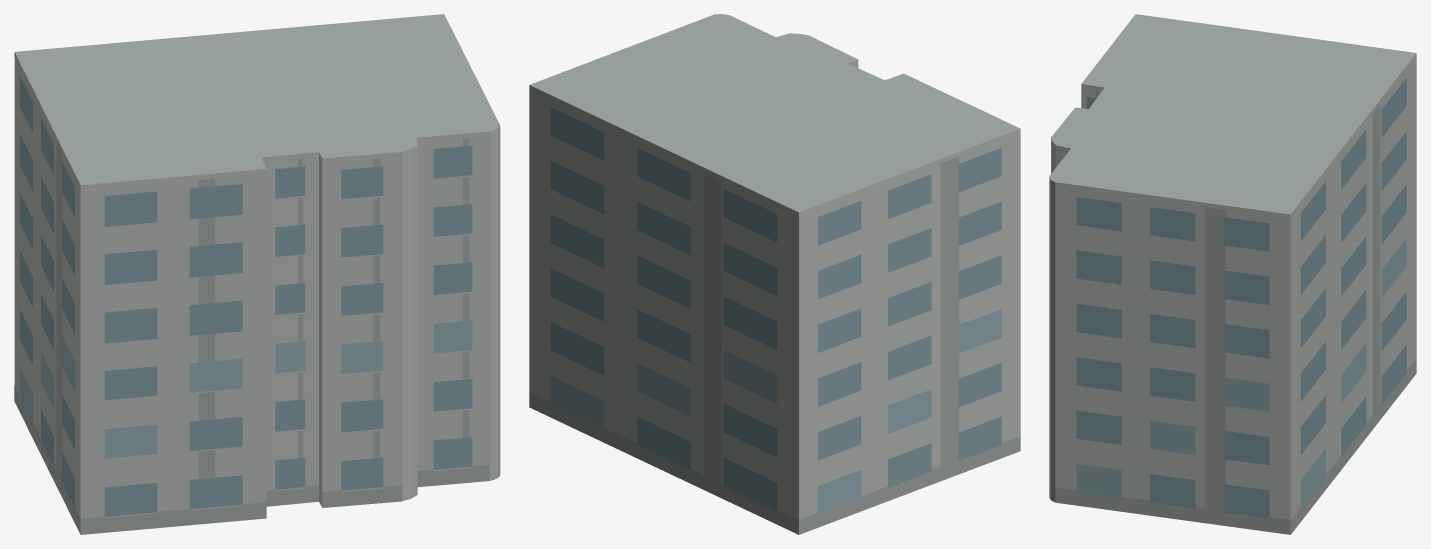
File: survey-upis-32838366.glb
The picture shows the model from 3 angles, left to right: view 1: azimuth 30°, elevation 25°; view 2: azimuth 150°, elevation 25°; view 3: azimuth 270°, elevation 25°; orthographic projection. The views are drawn at different scales.
Visible parts, largest first — view 1: survey-upis-32838366.tmp; view 2: survey-upis-32838366.tmp; view 3: survey-upis-32838366.tmp.
Part boxes in pixels (left/top/right/bottom): survey-upis-32838366.tmp: left=14, top=14, right=500, bottom=534; survey-upis-32838366.tmp: left=529, top=14, right=1020, bottom=534; survey-upis-32838366.tmp: left=1049, top=14, right=1416, bottom=534.
Bounding box in the file's own units: 22.68 × 16.9 × 17.56.
